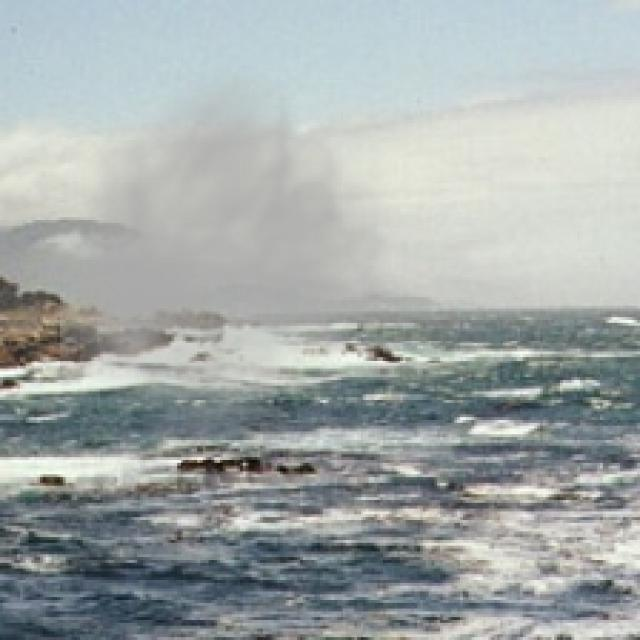Smoke: (60, 54, 429, 463)
